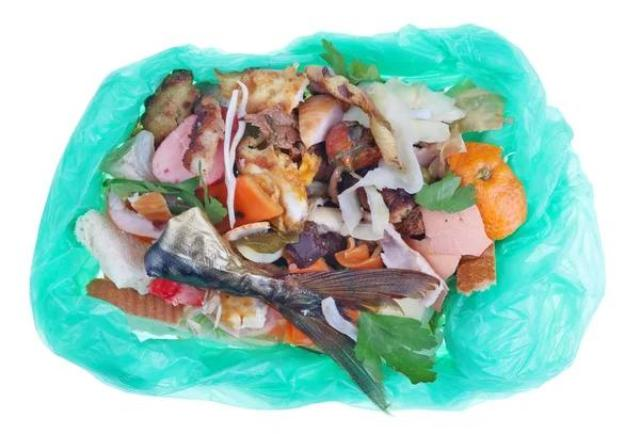Garbage: (63, 44, 536, 424)
